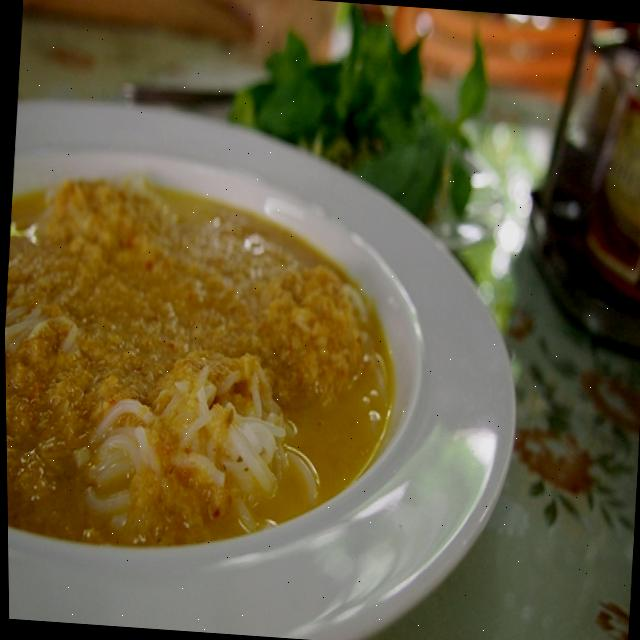面条主食: (1, 82, 523, 640)
